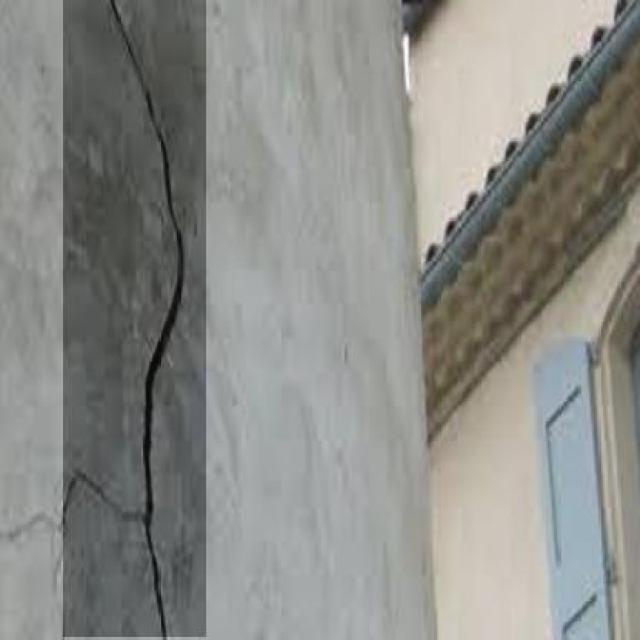Crack: (79, 0, 199, 635)
